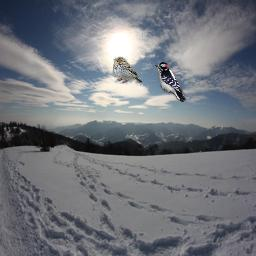Sparrow: (113, 56, 142, 84)
Woodpecker: (155, 62, 186, 102)
